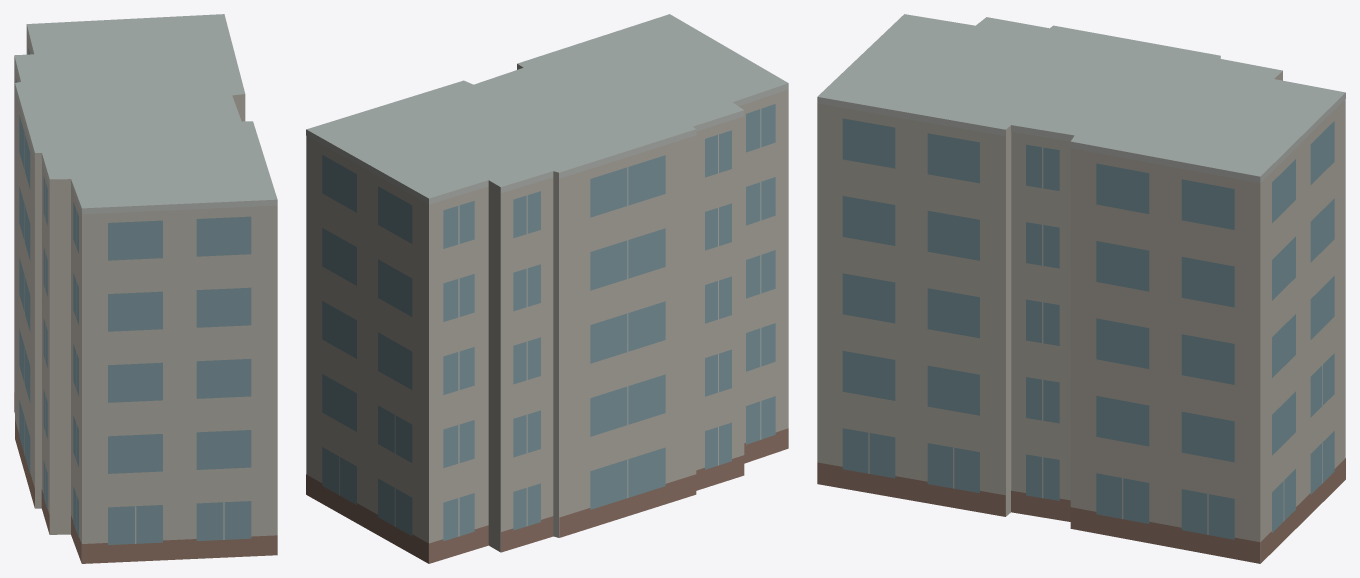
File: survey-upis-32638377.glb
3 renders of one model, left to right at view 1: azimuth 30°, elevation 25°; view 2: azimuth 150°, elevation 25°; view 3: azimuth 270°, elevation 25°, orthographic. The views are drawn at different scales.
Parts seen in each view (by area): view 1: survey-upis-32638377.tmp; view 2: survey-upis-32638377.tmp; view 3: survey-upis-32638377.tmp.
Part boxes in pixels (left/top/right/bottom): survey-upis-32638377.tmp: left=14, top=14, right=277, bottom=563; survey-upis-32638377.tmp: left=306, top=14, right=788, bottom=563; survey-upis-32638377.tmp: left=817, top=14, right=1345, bottom=563.
Size of the model in its own units: 13.07 by 14.5 by 17.95.
